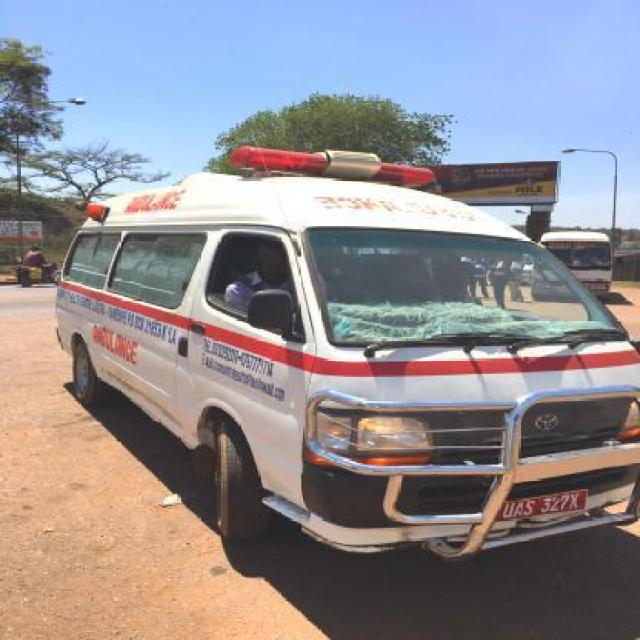Ambulance: (74, 180, 626, 592)
